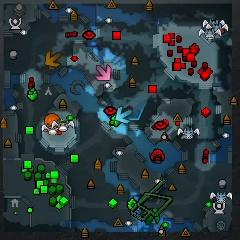p5: (44, 113, 61, 128)
x1: (95, 65, 111, 81)
x3: (116, 106, 132, 123)
x4: (144, 208, 160, 225)
x5: (45, 50, 62, 67)
